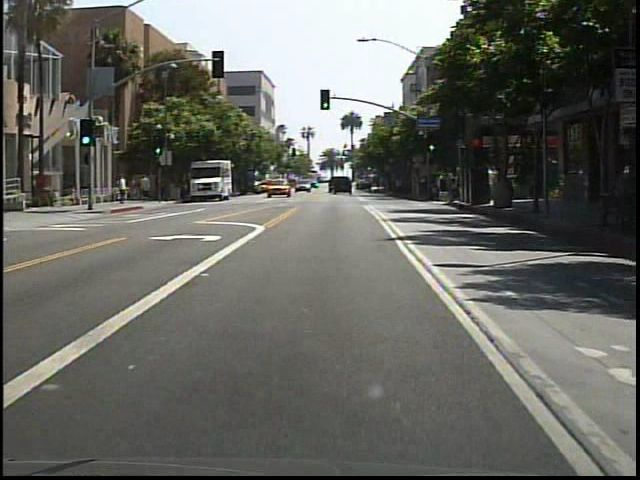person: (117, 174, 130, 207), (141, 172, 155, 201), (67, 183, 82, 208), (128, 177, 141, 202)
